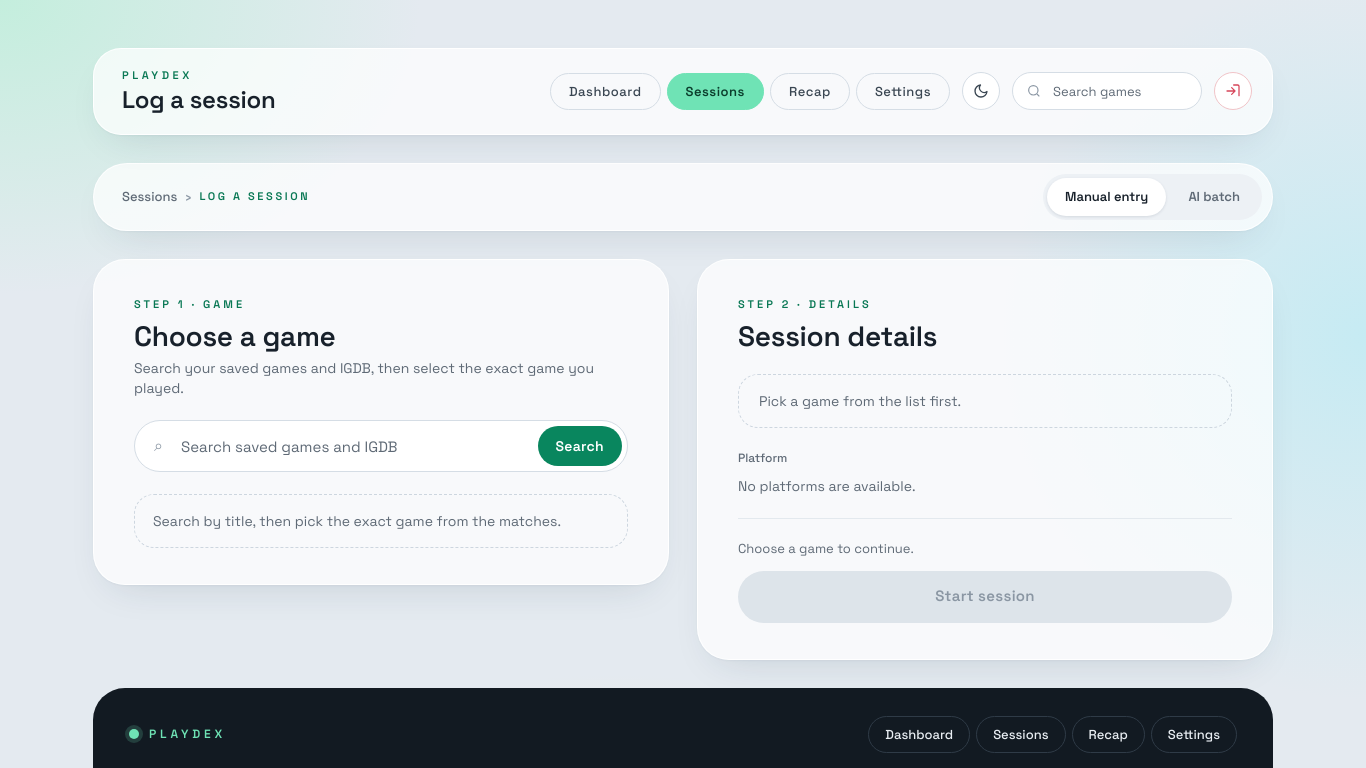
SessionCreatePage › validates before saving and the breadcrumb returns to sessions
The width and height of the screenshot is (1366, 768).
Check: the button "Start session" is disabled, box left=738, top=571, right=1232, bottom=623
Click the 2nd link "Sessions": (150, 196) left=122, top=188, right=177, bottom=205
(page scrolled)
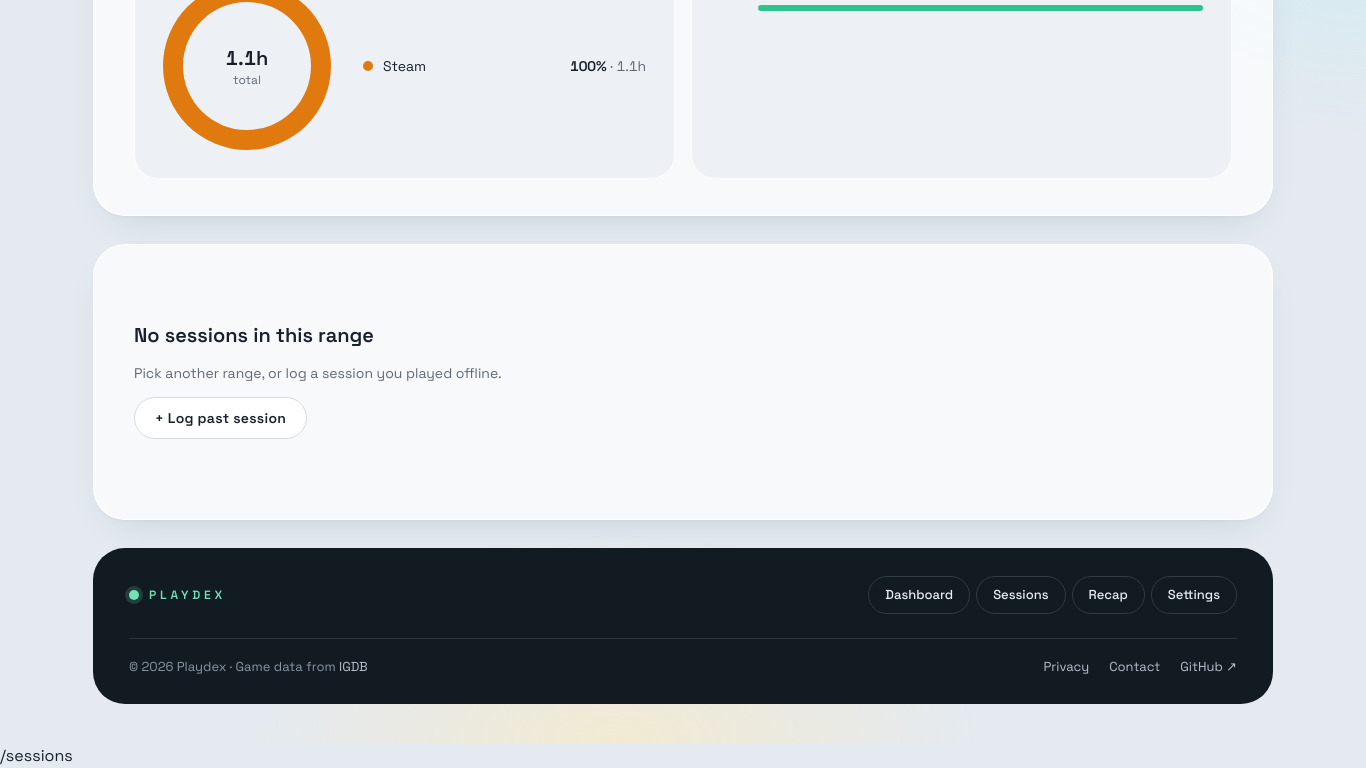
Check: the text with test id "location" reads "/sessions", box left=0, top=745, right=73, bottom=766
